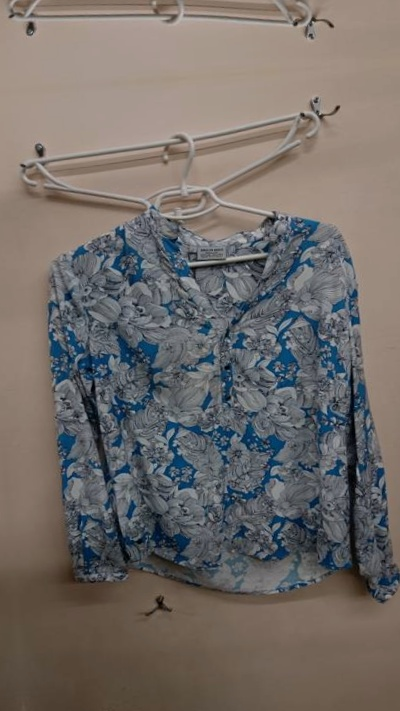Blouse: (13, 155, 400, 652)
